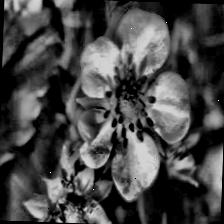Blossom Blight: (96, 64, 159, 150), (43, 176, 103, 224)
